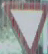Give way: (2, 1, 46, 52)
